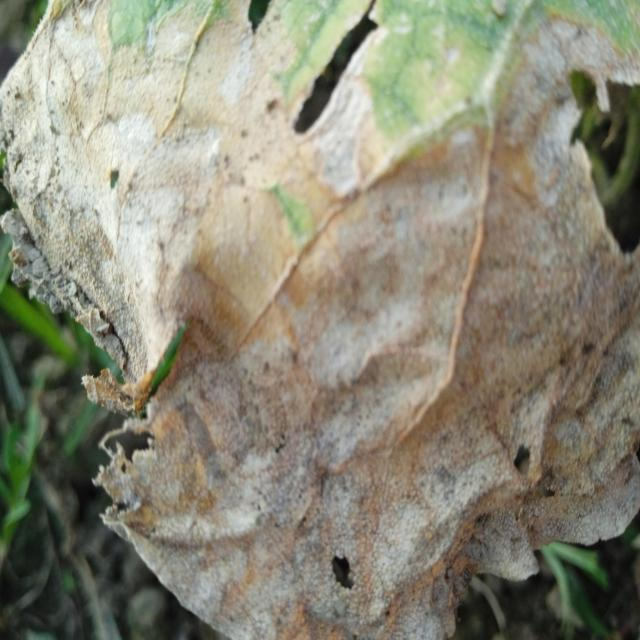cucumber_anthracnose: (69, 3, 636, 591)
